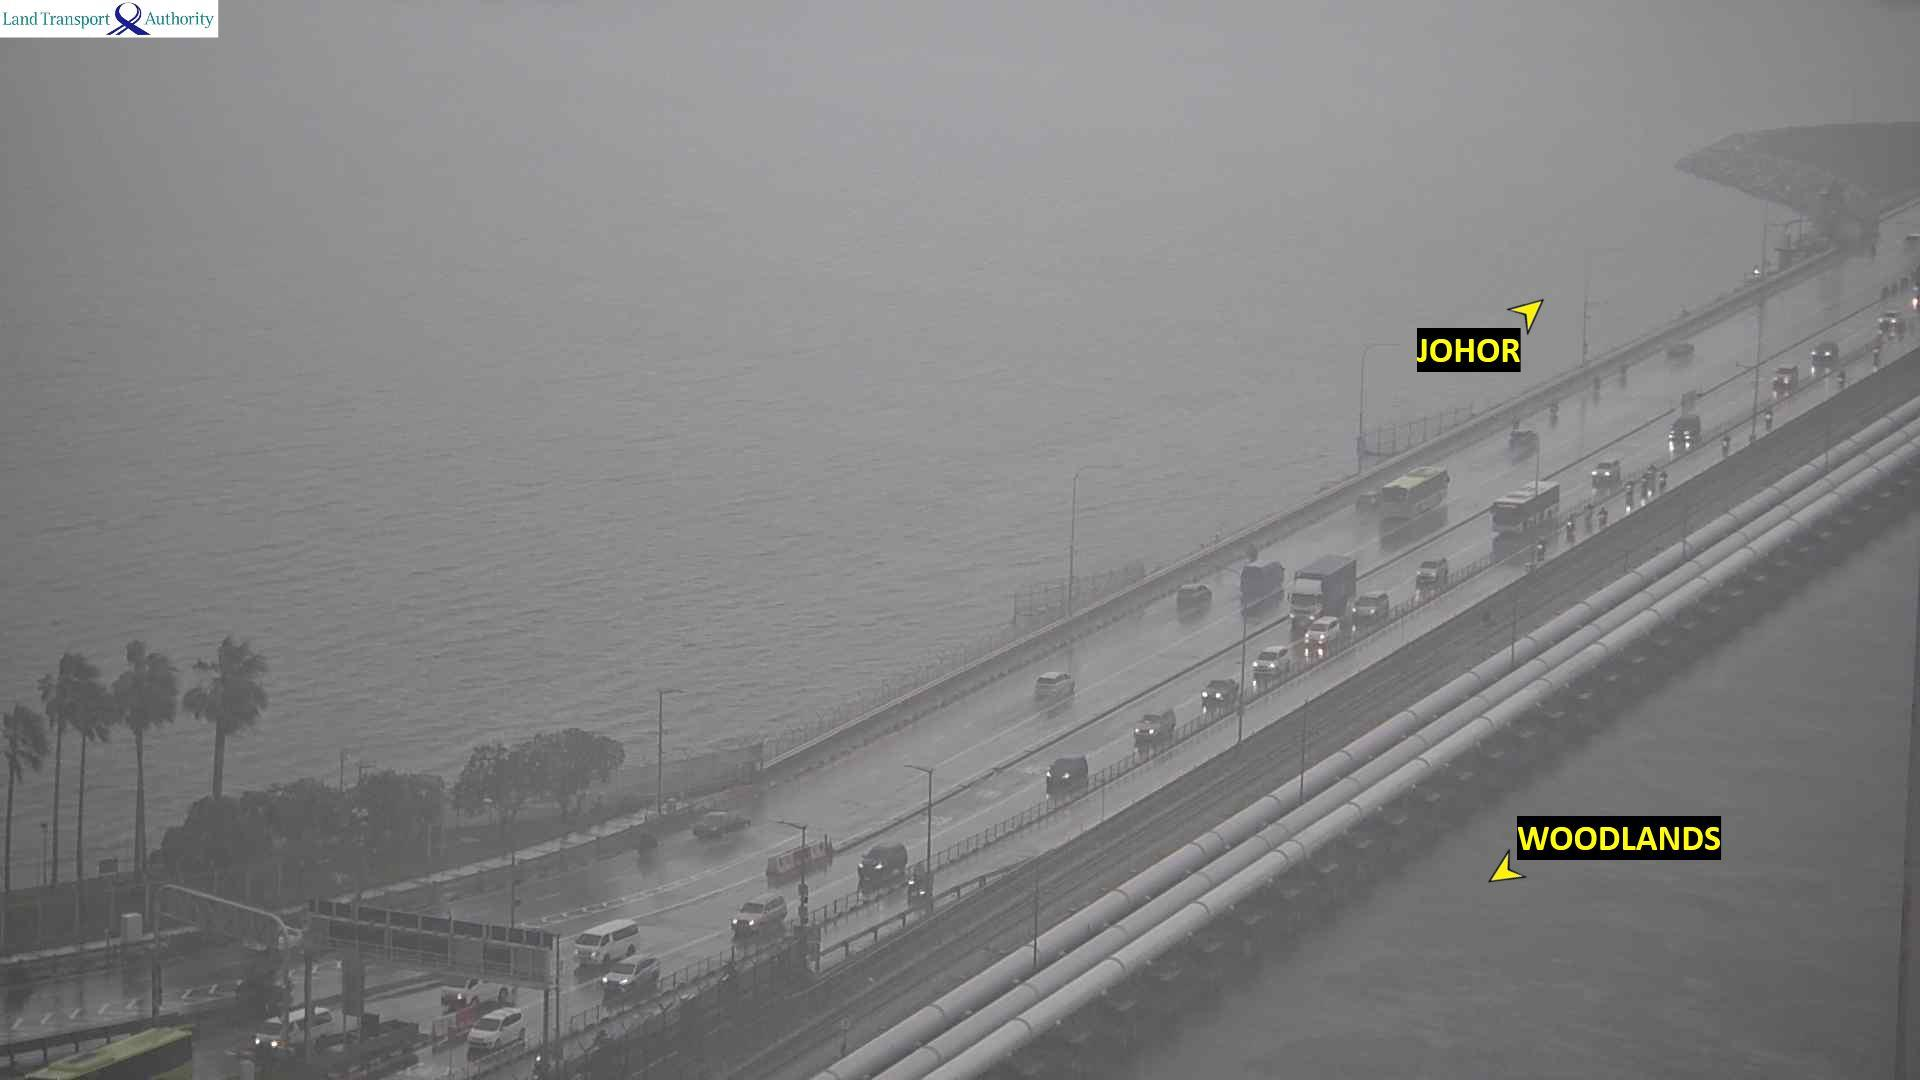vehicle-causeway-johor: (25, 1027, 193, 1080), (1383, 464, 1449, 521), (691, 811, 752, 845), (1238, 560, 1284, 593), (1034, 670, 1077, 699), (1175, 580, 1212, 612), (1510, 429, 1538, 452), (637, 833, 662, 856), (1358, 491, 1381, 516), (1668, 343, 1693, 363), (1246, 546, 1258, 559)
vehicle-causeway-singapore: (1287, 554, 1357, 628), (1493, 481, 1561, 537), (574, 916, 641, 969), (253, 1007, 335, 1050), (469, 1007, 527, 1056), (731, 891, 787, 936), (443, 978, 518, 1011), (603, 952, 661, 994), (857, 841, 909, 885), (1134, 704, 1176, 740), (1047, 753, 1087, 789), (1254, 644, 1288, 676), (1350, 591, 1389, 620), (1667, 413, 1700, 444), (1304, 616, 1338, 645), (1203, 675, 1238, 702), (1416, 556, 1448, 584), (907, 865, 930, 903), (1771, 363, 1799, 390), (1811, 340, 1840, 365), (1593, 459, 1621, 481), (1880, 310, 1898, 332), (1871, 345, 1880, 369), (1764, 409, 1774, 431), (1567, 517, 1576, 539), (1658, 472, 1668, 491), (1837, 371, 1846, 390), (1721, 435, 1730, 455), (1584, 502, 1592, 525), (1538, 539, 1545, 560), (1647, 463, 1654, 487), (1600, 508, 1607, 525), (1626, 483, 1631, 502)
